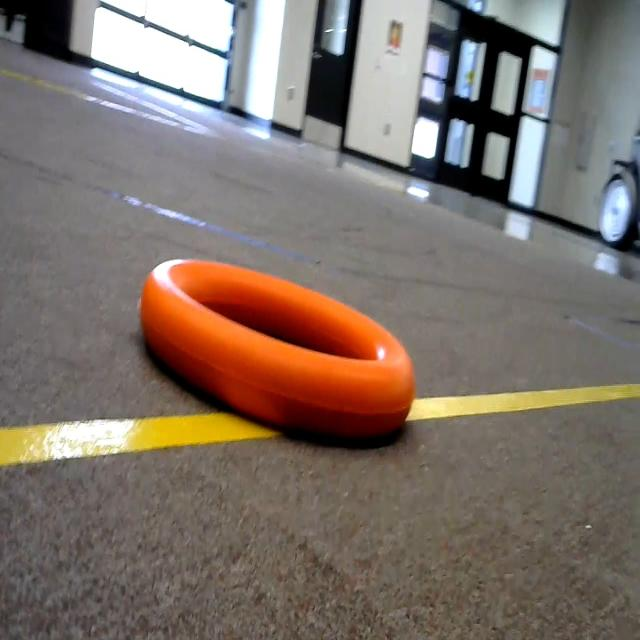note: (122, 216, 440, 472)
